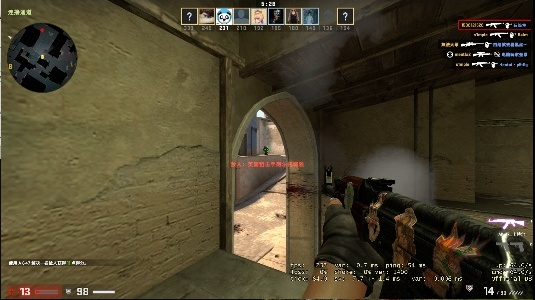body: (262, 144, 270, 155)
head: (265, 145, 268, 148)
